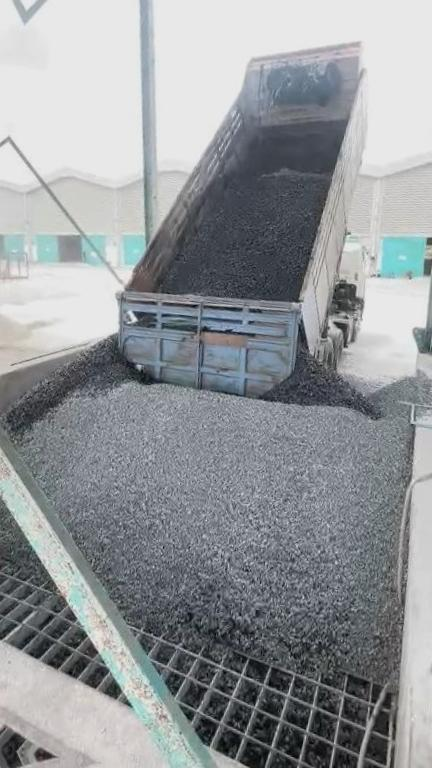gravel: (2, 325, 432, 679), (155, 147, 331, 301), (0, 450, 40, 572)
sand: (0, 305, 74, 377)
